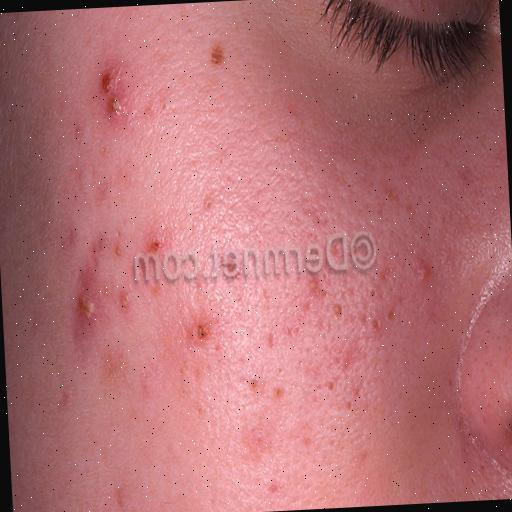Skin_Lesion: (66, 280, 102, 348), (98, 60, 132, 130), (248, 360, 289, 414), (188, 309, 210, 356), (322, 302, 348, 340), (409, 252, 435, 288), (304, 276, 324, 310), (147, 222, 164, 257)
